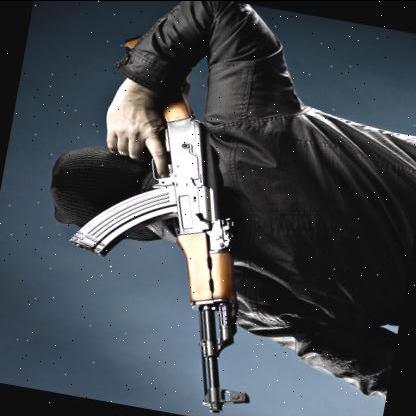rifle: (37, 30, 314, 416)
